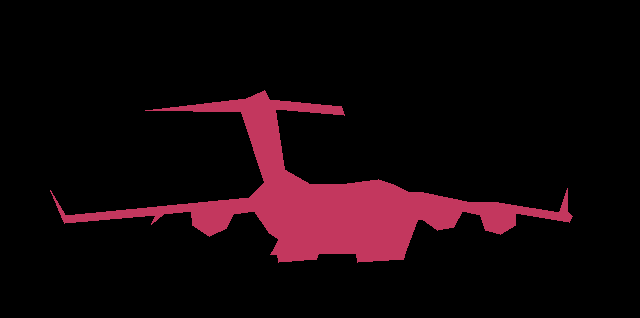Airplane: (50, 90, 573, 263)
